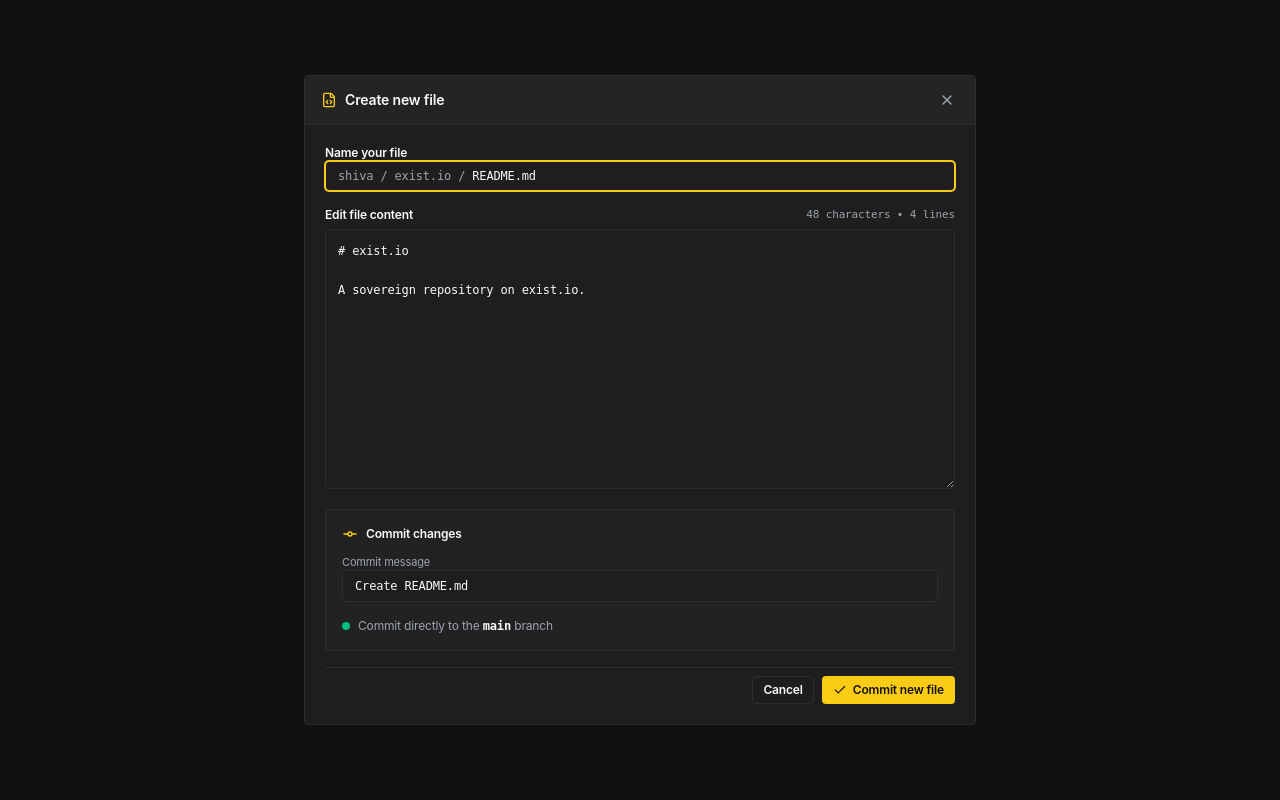
Test: CreateFileModal Component › updates commit message when file path input changes
Replace the text in the field labelled "Name your file" with "main.go" at (707, 176), box [472,168,942,184]
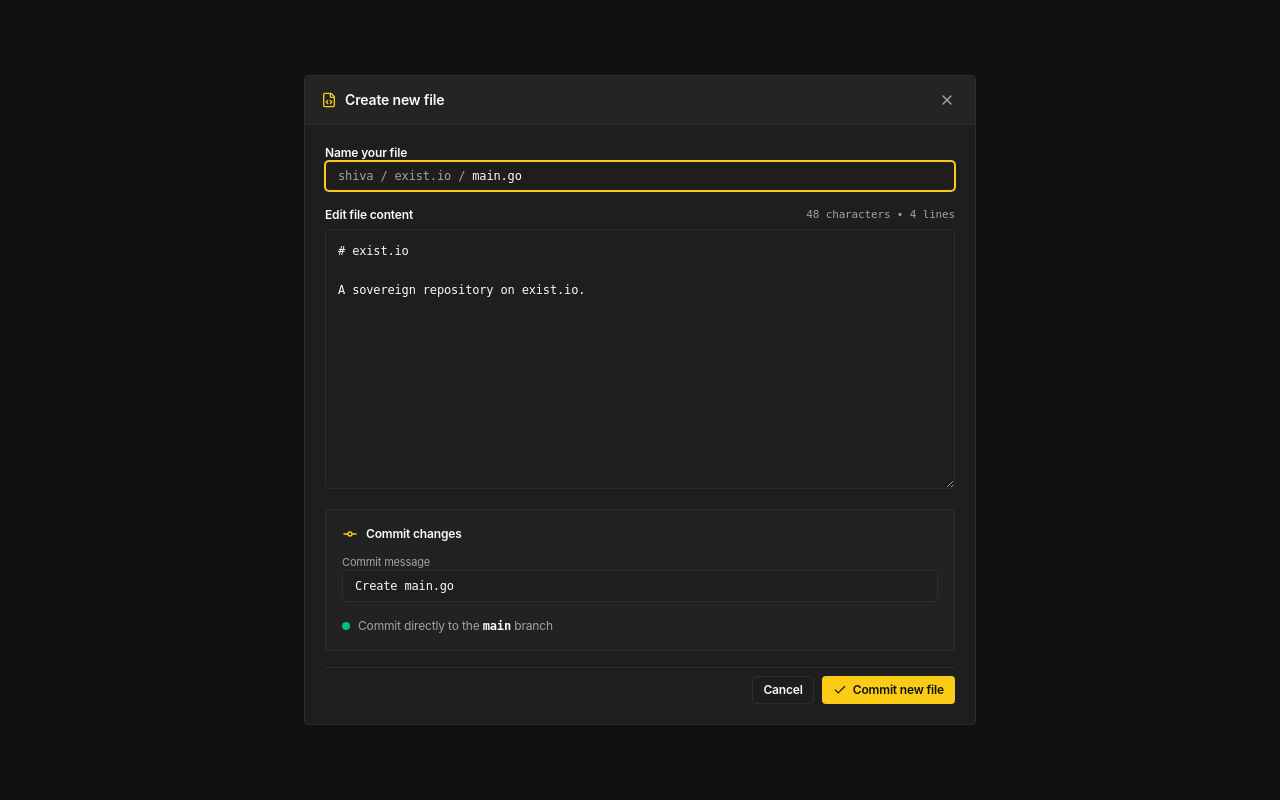
expect the field labelled "Commit message" holds "Create main.go": met, box [342,570,938,602]
